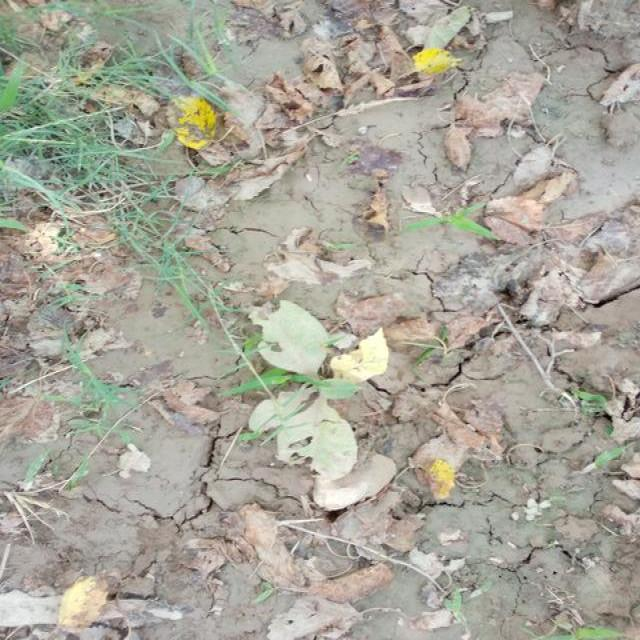crop: (252, 302, 390, 470)
